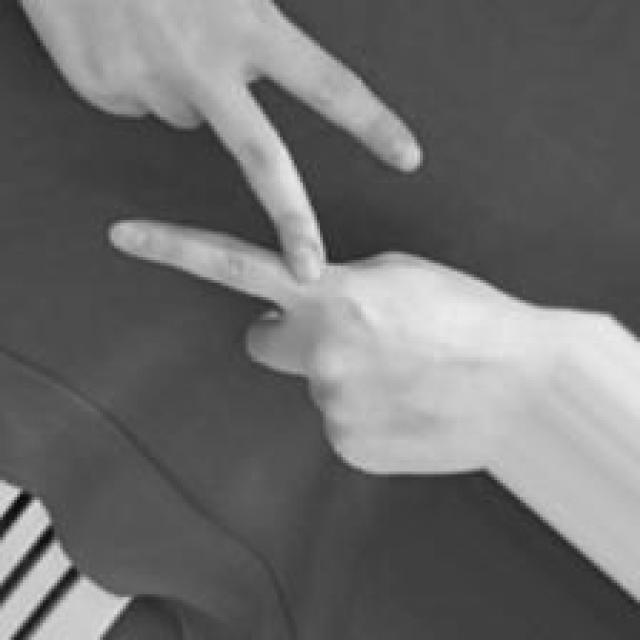Z: (25, 4, 493, 472)
